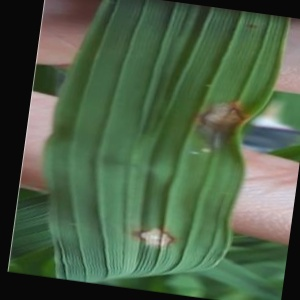Brown_Spot: (188, 80, 253, 163), (130, 211, 194, 256)
